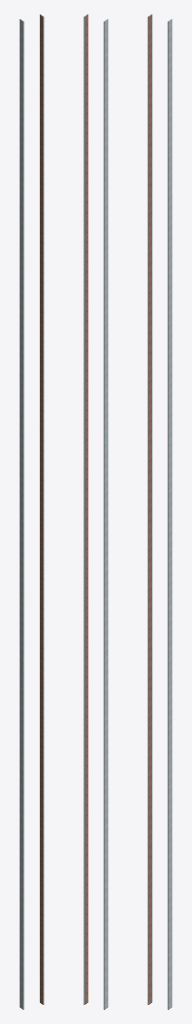
The model's file is Wall.obj.
3 renders of one model, left to right at view 1: azimuth 30°, elevation 25°; view 2: azimuth 150°, elevation 25°; view 3: azimuth 330°, elevation 25°, orthographic.
Visible parts, largest first — view 1: Wall_Plane; view 2: Wall_Plane; view 3: Wall_Plane.
Part boxes in pixels (<box>): Wall_Plane: <box>19,14,44,1009</box>; Wall_Plane: <box>83,14,108,1009</box>; Wall_Plane: <box>147,14,172,1009</box>.
Size of the model in its own units: 2.2 by 100 by 0.6571.
1 material, 1 textured.
